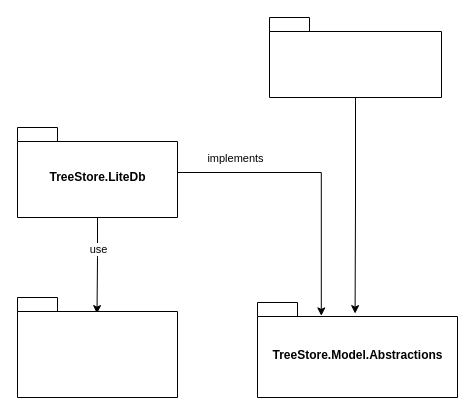
The diagram is 475 pixels wide and 415 high, and some of its shapes have lost their labels. Each missing label, with the centre of its shape:
"TreeStore.Model" belongs at point 97,347.
"TreeStore.Server.Host" belongs at point 355,57.
